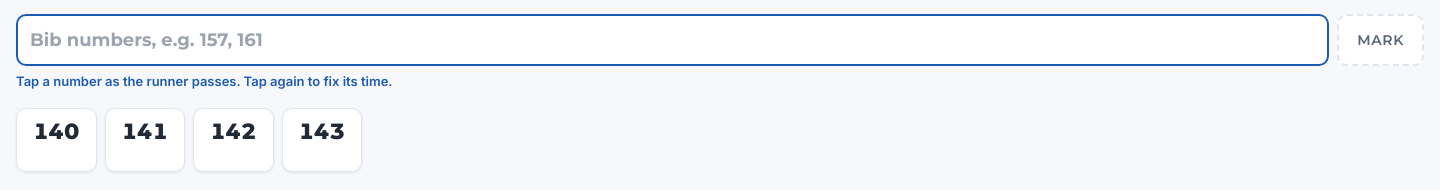
Mark off (RunnerGrid) › tapping a not-passed tile marks it at now
Click the button named "Runner 142,": (233, 140) [193, 108, 274, 172]
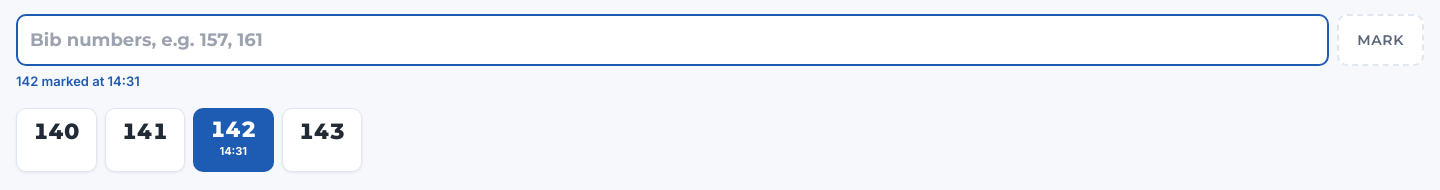
Expected: the text with test id "markoff-status" reads "142 marked at 14:31", [16, 73, 140, 89]
